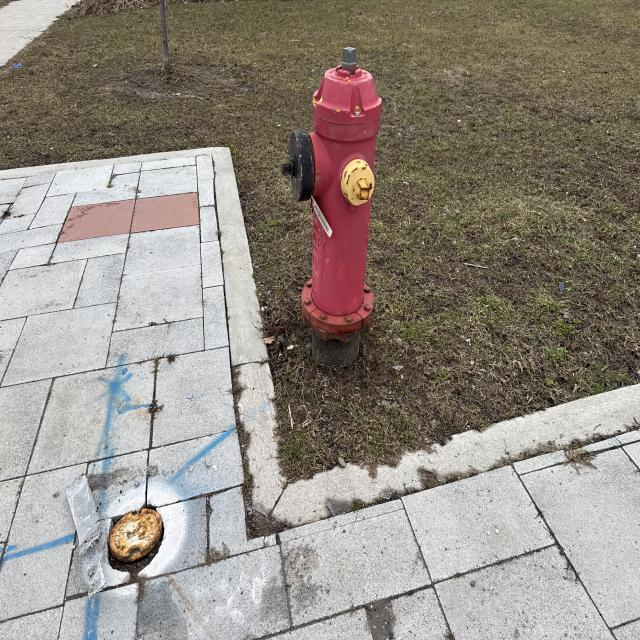Fire hydrant: (280, 46, 383, 345)
